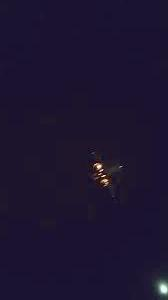Plane: (76, 146, 130, 208)
